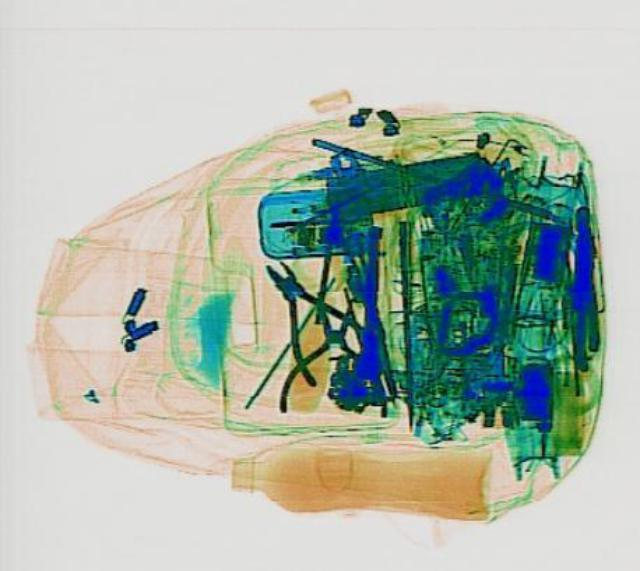Pliers: (230, 243, 380, 386), (276, 284, 388, 415), (562, 205, 602, 368)
